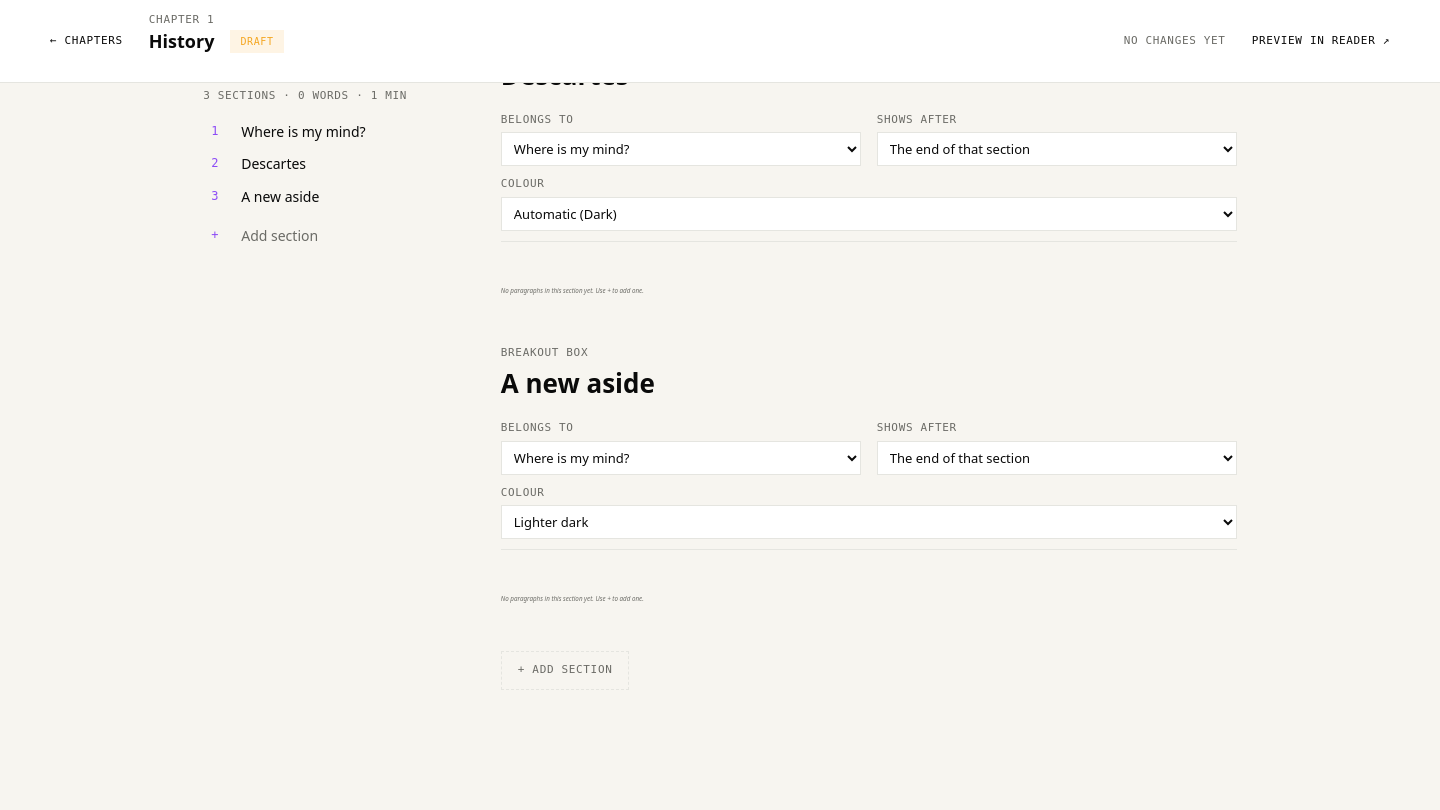
Test: ChapterEditorView: a breakout box's Colour select › shows what is stored when a save is refused
(page scrolled)
Select "Dark" in the 2nd dropdown labelled "Colour" at coordinates (869, 522), box [501,505,1237,539]
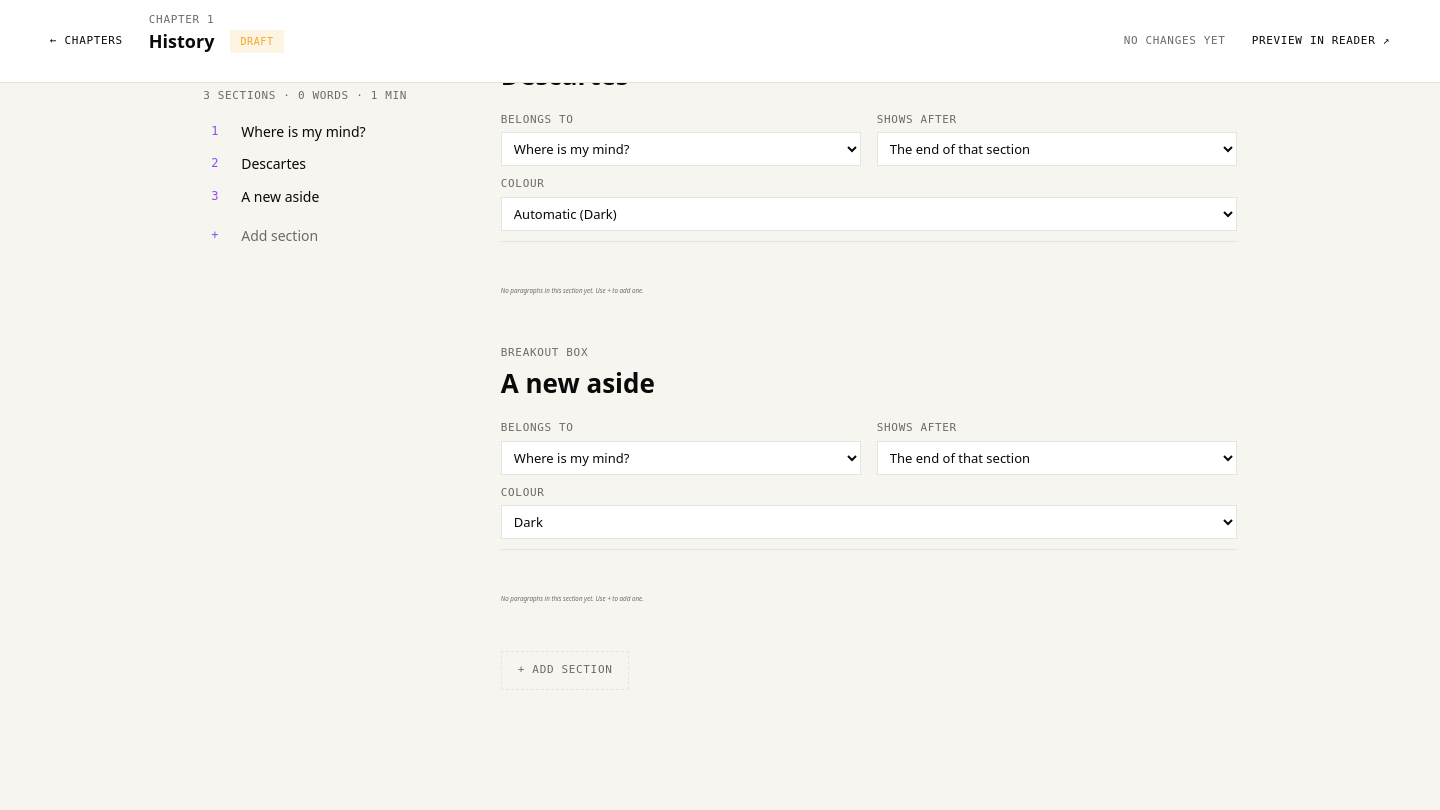
Leave the 2nd dropdown labelled "Colour", box [501,505,1237,539]
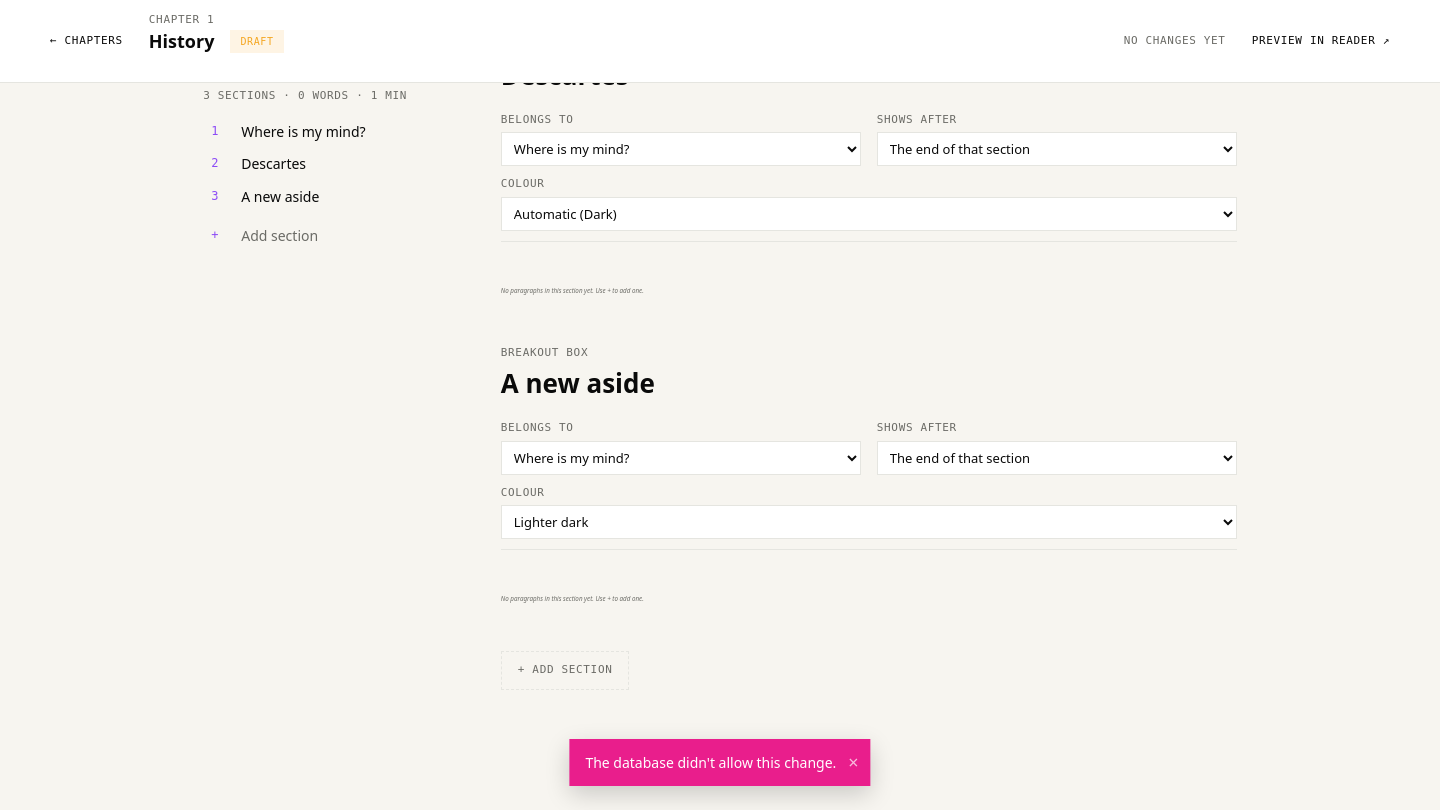
Check: the text "didn't allow" is shown, box [585,753,836,772]
